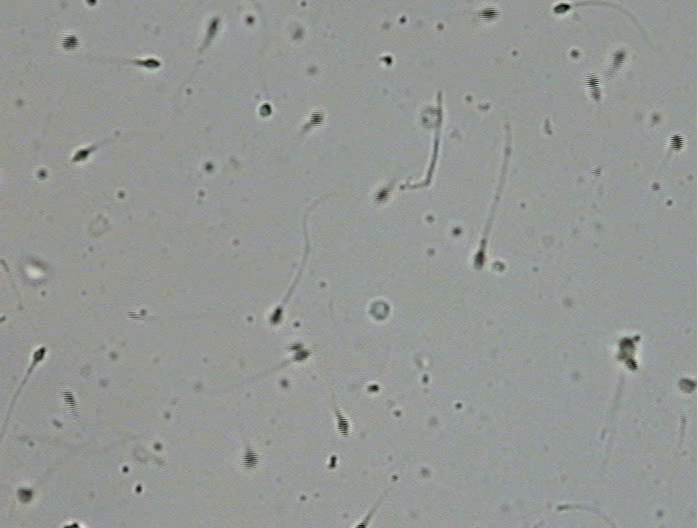Impurity: (369, 300, 391, 320)
S: (617, 336, 636, 361), (585, 73, 601, 100), (289, 342, 309, 361), (242, 449, 259, 469), (678, 378, 696, 394), (61, 390, 75, 410), (670, 133, 684, 153), (337, 416, 350, 437), (61, 35, 79, 50), (71, 149, 90, 162), (480, 8, 498, 21), (474, 249, 485, 270), (17, 488, 32, 503), (310, 111, 325, 126), (612, 50, 626, 65), (624, 357, 638, 371), (33, 347, 46, 362), (270, 308, 282, 324), (207, 19, 218, 36), (554, 3, 571, 14), (142, 59, 160, 69), (375, 189, 389, 201), (259, 104, 272, 116), (355, 522, 367, 528), (86, 1, 96, 6)
